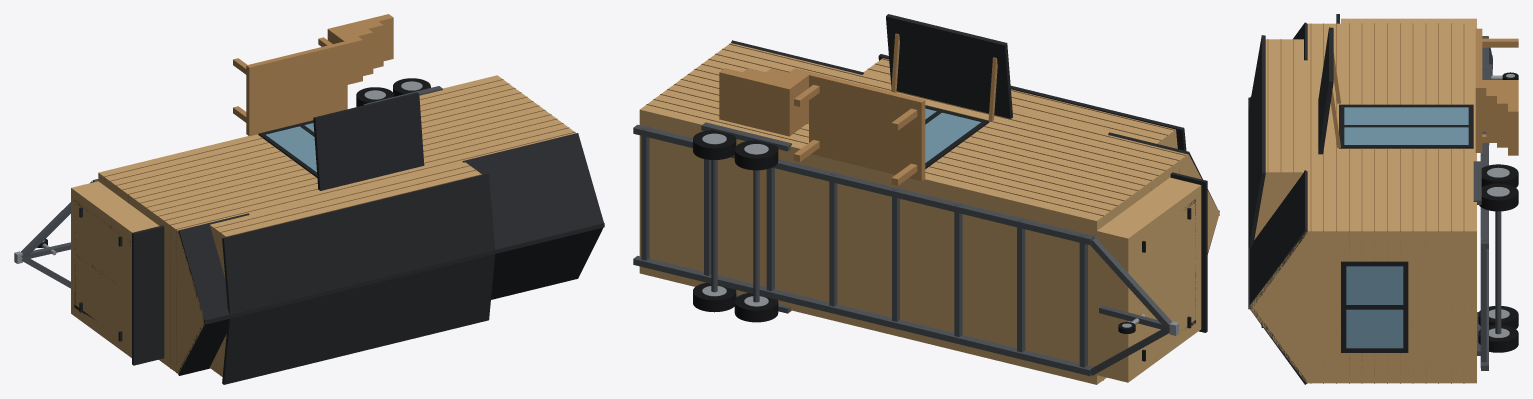
The model's file is tiny_house_retro730.obj.
3 views of the same model, side by side, from view 1: azimuth 30°, elevation 25°; view 2: azimuth 150°, elevation 25°; view 3: azimuth 270°, elevation 25° (orthographic). The views are drawn at different scales.
Visible parts, largest first — view 1: Roof_All_Sections, Wall_Entry_Side, Front_Storage_Box, Entry_Canopy, Entry_Deck, Siding_Entry_Side, Raised_Wall_Entry_Side, Front_Storage_Roof, Entry_Stairs, Wall_Front, Gable_Front, Roof_Ridge_Caps (+7 smaller); view 2: House_Floor, Wall_Entry_Side, Trailer_Chassis, Front_Storage_Box, Entry_Deck, Entry_Canopy, Siding_Entry_Side, Entry_Stairs, Trailer_Tires, Raised_Wall_Entry_Side, Wall_Front, Trailer_Axles (+11 smaller); view 3: Wall_Entry_Side, Wall_Rear, Roof_All_Sections, Raised_Wall_Entry_Side, Rear_Window_Glass, Gable_Rear, Double_Entry_Door_Glass, Siding_Entry_Side, Entry_Stairs, House_Floor, Trailer_Tires, Trailer_Chassis (+14 smaller).
Part boxes in pixels (x1=…): Roof_All_Sections: x1=177, y1=133, x2=603, y2=384; Wall_Entry_Side: x1=98, y1=75, x2=575, y2=237; Front_Storage_Box: x1=71, y1=181, x2=159, y2=357; Entry_Canopy: x1=313, y1=92, x2=424, y2=190; Entry_Deck: x1=246, y1=41, x2=347, y2=136; Siding_Entry_Side: x1=104, y1=79, x2=575, y2=229; Raised_Wall_Entry_Side: x1=210, y1=162, x2=481, y2=240; Front_Storage_Roof: x1=132, y1=225, x2=164, y2=365; Entry_Stairs: x1=327, y1=14, x2=393, y2=84; Wall_Front: x1=98, y1=171, x2=183, y2=371; Gable_Front: x1=178, y1=231, x2=205, y2=373; Roof_Ridge_Caps: x1=204, y1=223, x2=604, y2=324; House_Floor: x1=639, y1=105, x2=1101, y2=384; Wall_Entry_Side: x1=640, y1=43, x2=1188, y2=228; Trailer_Chassis: x1=633, y1=124, x2=1171, y2=376; Front_Storage_Box: x1=1097, y1=177, x2=1201, y2=382; Entry_Deck: x1=809, y1=72, x2=925, y2=181; Entry_Canopy: x1=886, y1=14, x2=1012, y2=118; Siding_Entry_Side: x1=646, y1=43, x2=1186, y2=216; Entry_Stairs: x1=719, y1=68, x2=812, y2=136; Trailer_Tires: x1=693, y1=130, x2=778, y2=322; Raised_Wall_Entry_Side: x1=863, y1=58, x2=1175, y2=145; Wall_Front: x1=1089, y1=153, x2=1188, y2=384; Trailer_Axles: x1=711, y1=160, x2=759, y2=302; Wall_Entry_Side: x1=1306, y1=23, x2=1476, y2=238; Wall_Rear: x1=1306, y1=227, x2=1476, y2=383; Roof_All_Sections: x1=1248, y1=22, x2=1307, y2=384; Raised_Wall_Entry_Side: x1=1264, y1=39, x2=1306, y2=179; Rear_Window_Glass: x1=1346, y1=266, x2=1403, y2=348; Gable_Rear: x1=1248, y1=232, x2=1306, y2=381; Double_Entry_Door_Glass: x1=1344, y1=107, x2=1468, y2=144; Siding_Entry_Side: x1=1310, y1=23, x2=1464, y2=231; Entry_Stairs: x1=1475, y1=80, x2=1518, y2=155; House_Floor: x1=1467, y1=23, x2=1476, y2=383; Trailer_Tires: x1=1478, y1=164, x2=1518, y2=352; Trailer_Chassis: x1=1480, y1=36, x2=1492, y2=370.
Size of the model in its own units: 8.7 by 3.73 by 4.02.
